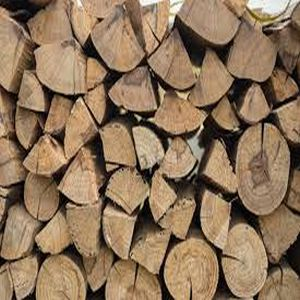log: (233, 122, 290, 214), (222, 220, 268, 300), (87, 9, 145, 72), (161, 236, 216, 300), (29, 37, 86, 96), (145, 31, 199, 93), (230, 20, 277, 87), (185, 46, 232, 111), (178, 1, 242, 44), (155, 88, 205, 143), (101, 256, 160, 300), (97, 206, 141, 265), (32, 253, 86, 300), (109, 67, 157, 118), (199, 136, 238, 194), (19, 169, 60, 224), (198, 191, 234, 251), (61, 151, 99, 207), (62, 98, 97, 158), (98, 122, 138, 174), (103, 168, 150, 211), (130, 226, 170, 276), (19, 135, 65, 176), (154, 195, 195, 240), (1, 207, 34, 262), (132, 123, 163, 175), (160, 139, 197, 182), (11, 68, 44, 116), (147, 169, 175, 224), (36, 208, 69, 254), (12, 106, 43, 152), (8, 255, 37, 300), (210, 94, 238, 137), (83, 83, 110, 122)
